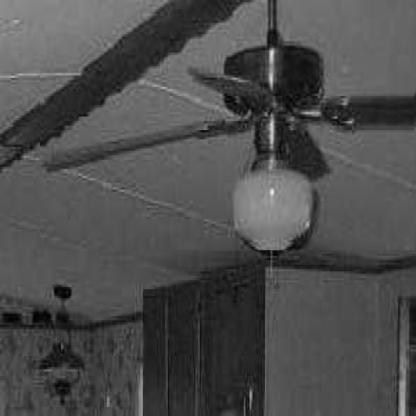ceiling-fan: (40, 0, 415, 251)
